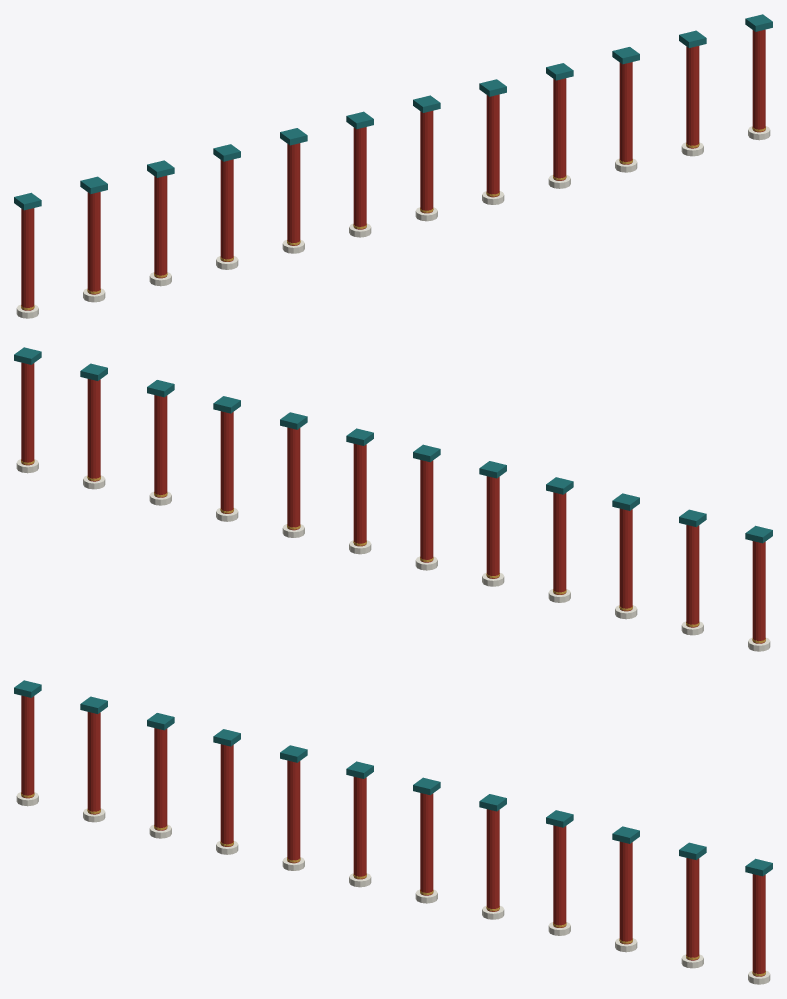
The model's file is SM_04_Columns_North.fbx.
3 renders of one model, top to bottom at view 1: azimuth 30°, elevation 25°; view 2: azimuth 150°, elevation 25°; view 3: azimuth 330°, elevation 25°, orthographic.
Visible parts, largest first — view 1: Columns_North; view 2: Columns_North; view 3: Columns_North.
Part boxes in pixels (left/top/right/bottom): Columns_North: left=14, top=14, right=772, bottom=318; Columns_North: left=14, top=347, right=772, bottom=651; Columns_North: left=14, top=680, right=772, bottom=984.
Bounding box in the file's own units: 4516 × 116 × 664.
